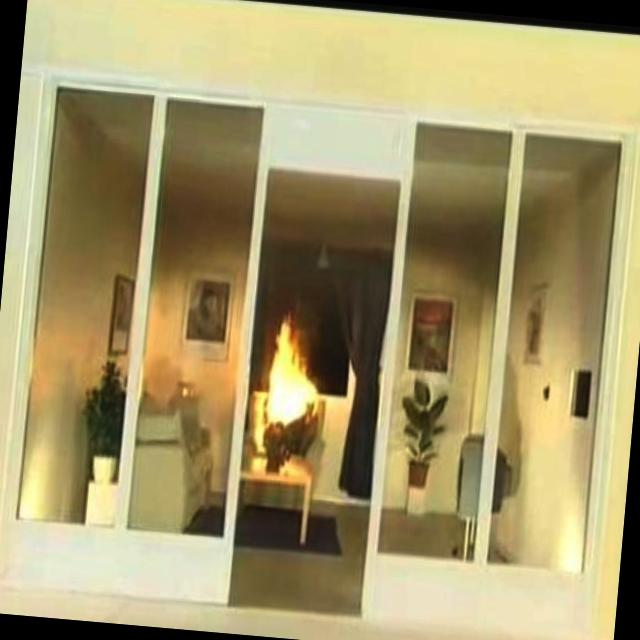Fire_Dangerous: (256, 310, 331, 428)
